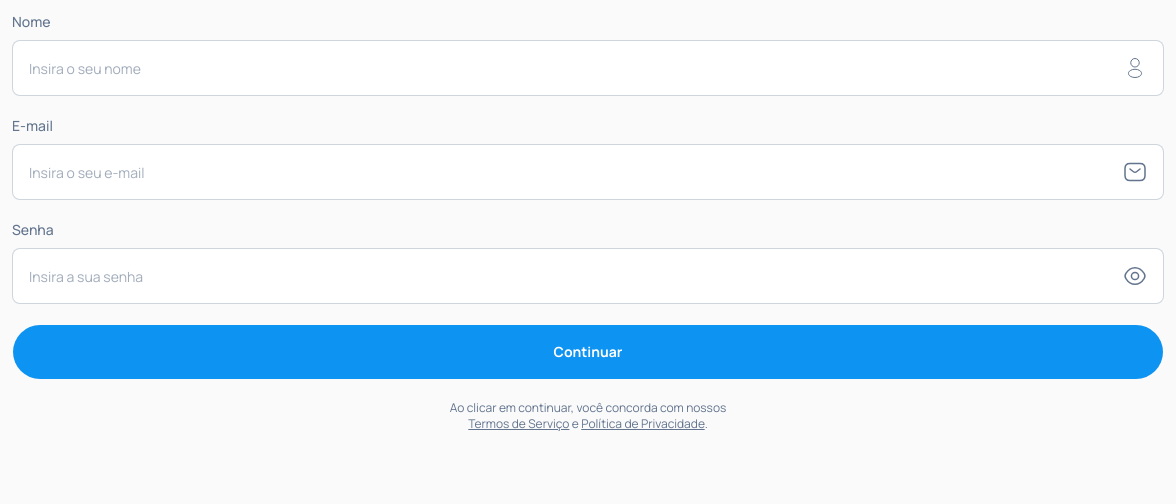
RegisterForm › shows error for invalid email
In the field with placeholder "Insira o seu nome": x=576, y=68 [29,41,1123,95], type "André"
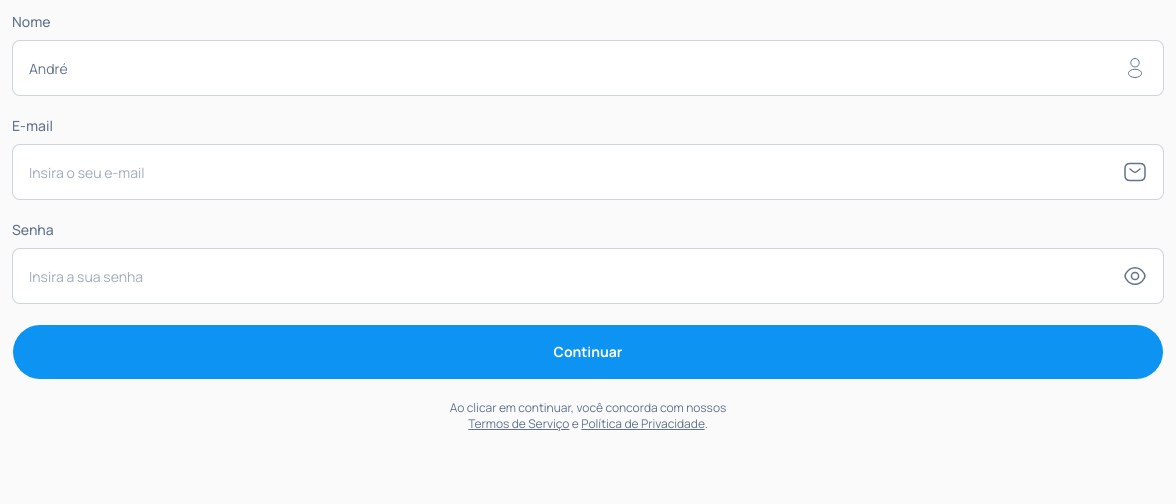
In the field with placeholder "Insira o seu e-mail": x=576, y=172 [29,145,1123,199], type "invalido"
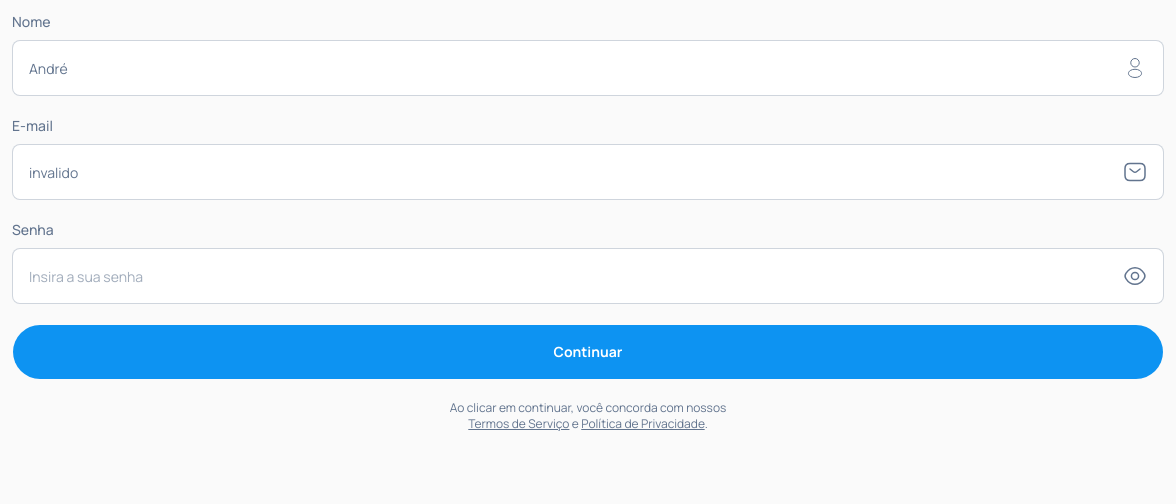
Click the button "Continuar": x=588, y=352 [12,324,1164,380]
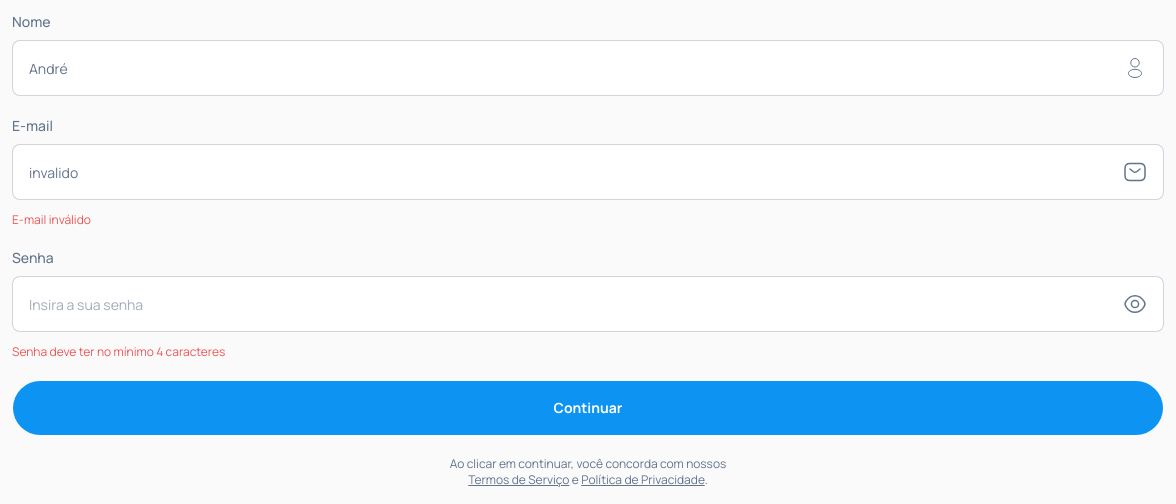
expect the text "E-mail inválido" is shown: met, box [12,211,91,228]
